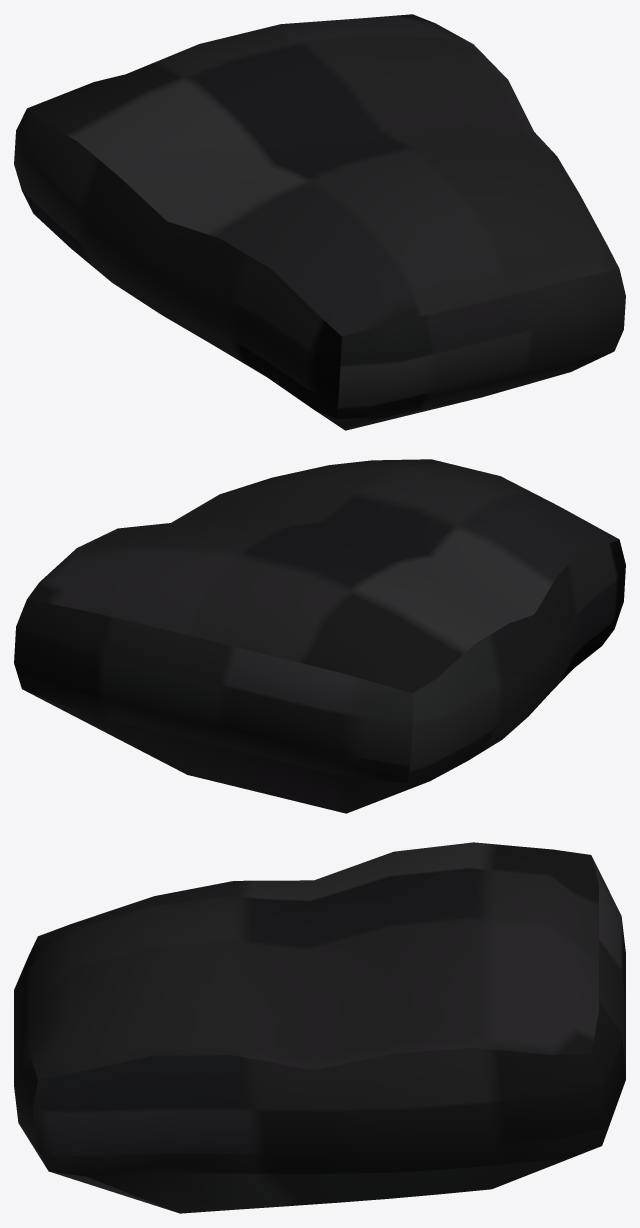
The model's file is engine.fbx.
3 views of the same model, one above another, from view 1: azimuth 30°, elevation 25°; view 2: azimuth 150°, elevation 25°; view 3: azimuth 270°, elevation 25° (orthographic). The views are drawn at different scales.
Visible parts, largest first — view 1: ENGINE; view 2: ENGINE; view 3: ENGINE.
Boxes of the visible parts, x1=… form: ENGINE: x1=14, y1=14, x2=625, y2=430; ENGINE: x1=14, y1=459, x2=625, y2=813; ENGINE: x1=14, y1=842, x2=625, y2=1213.
Bounding box in the file's own units: 0.9635 × 0.5666 × 1.14.
